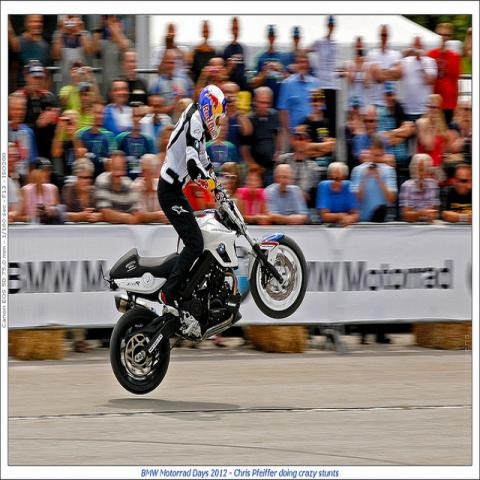motorcycle: (101, 184, 310, 395)
